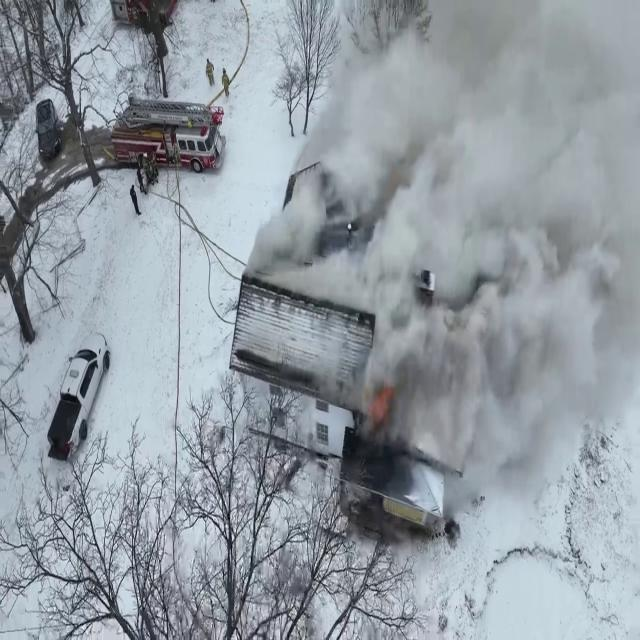Smoke: (291, 0, 640, 551)
